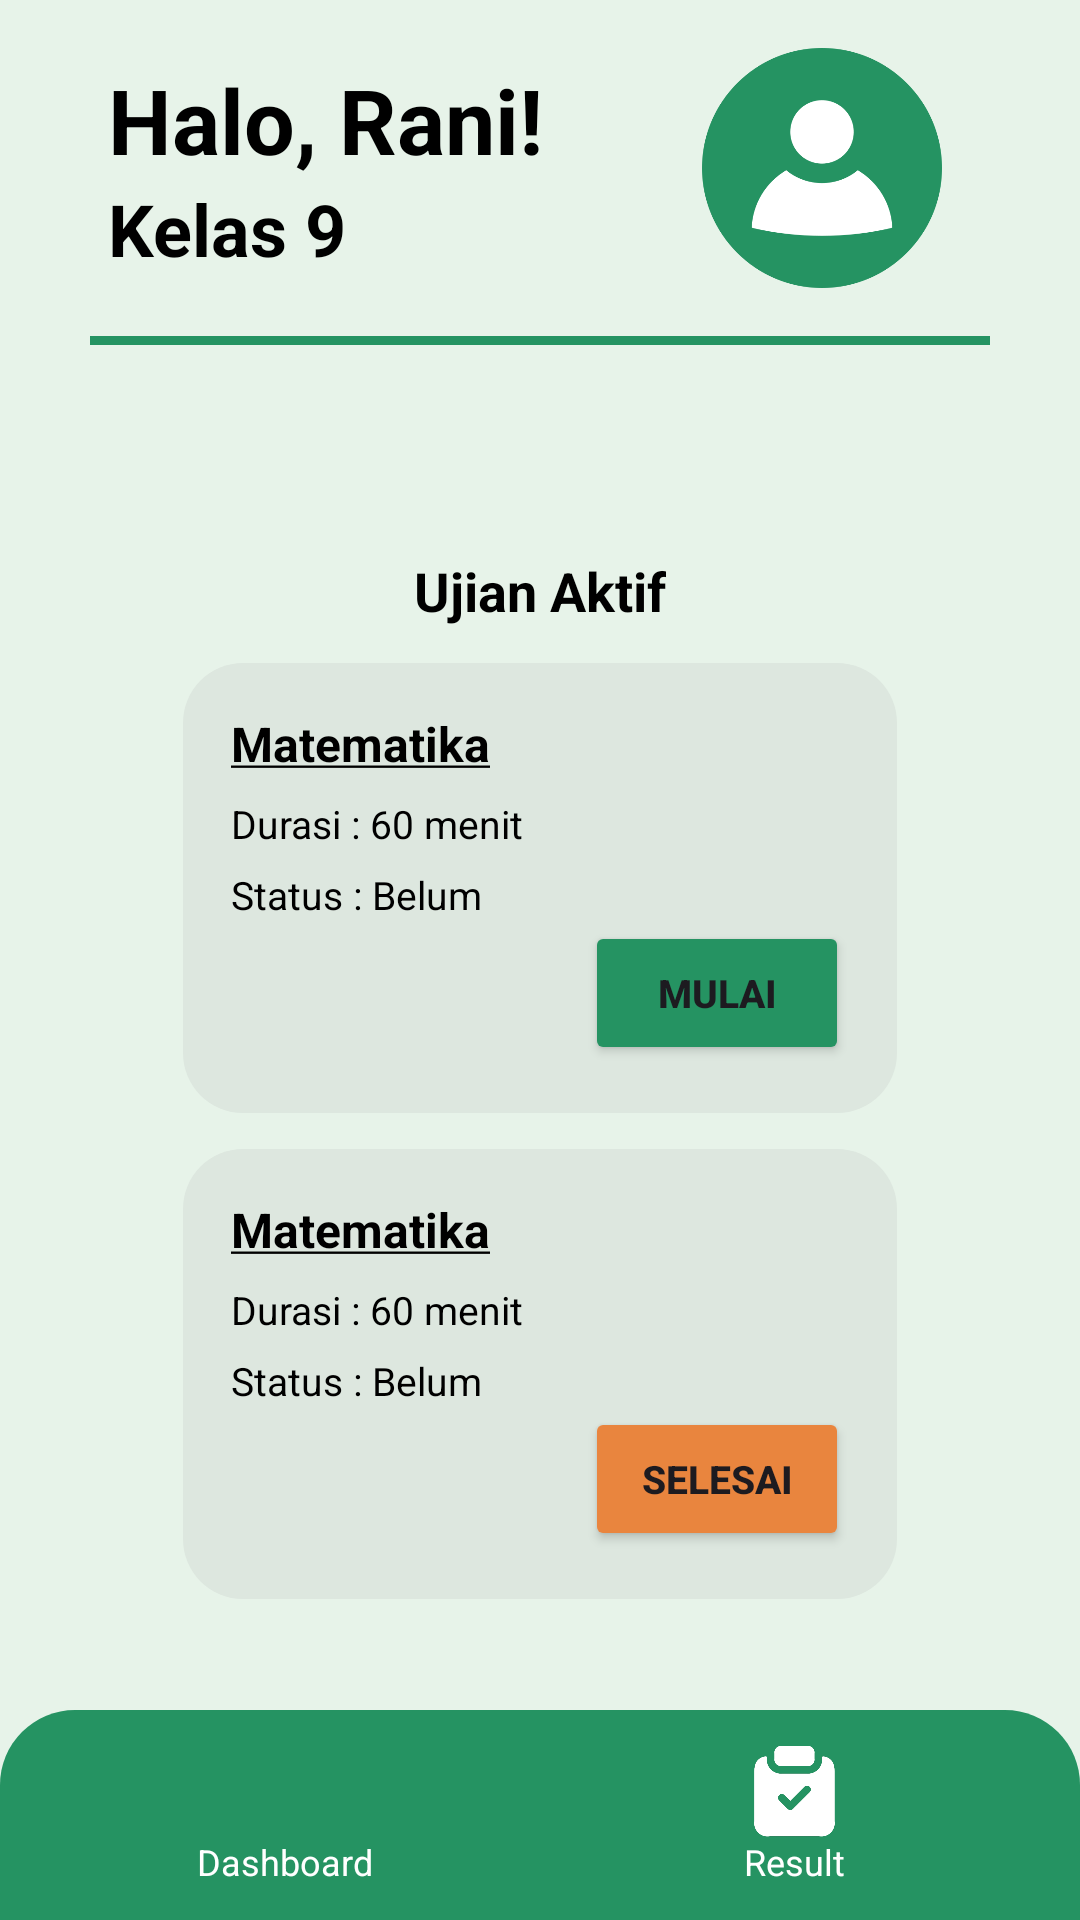

Screen size 1080x1920. Icon name, then its box in pixels as region(x1, y1, x2, y2):
profile user: region(702, 48, 942, 288)
